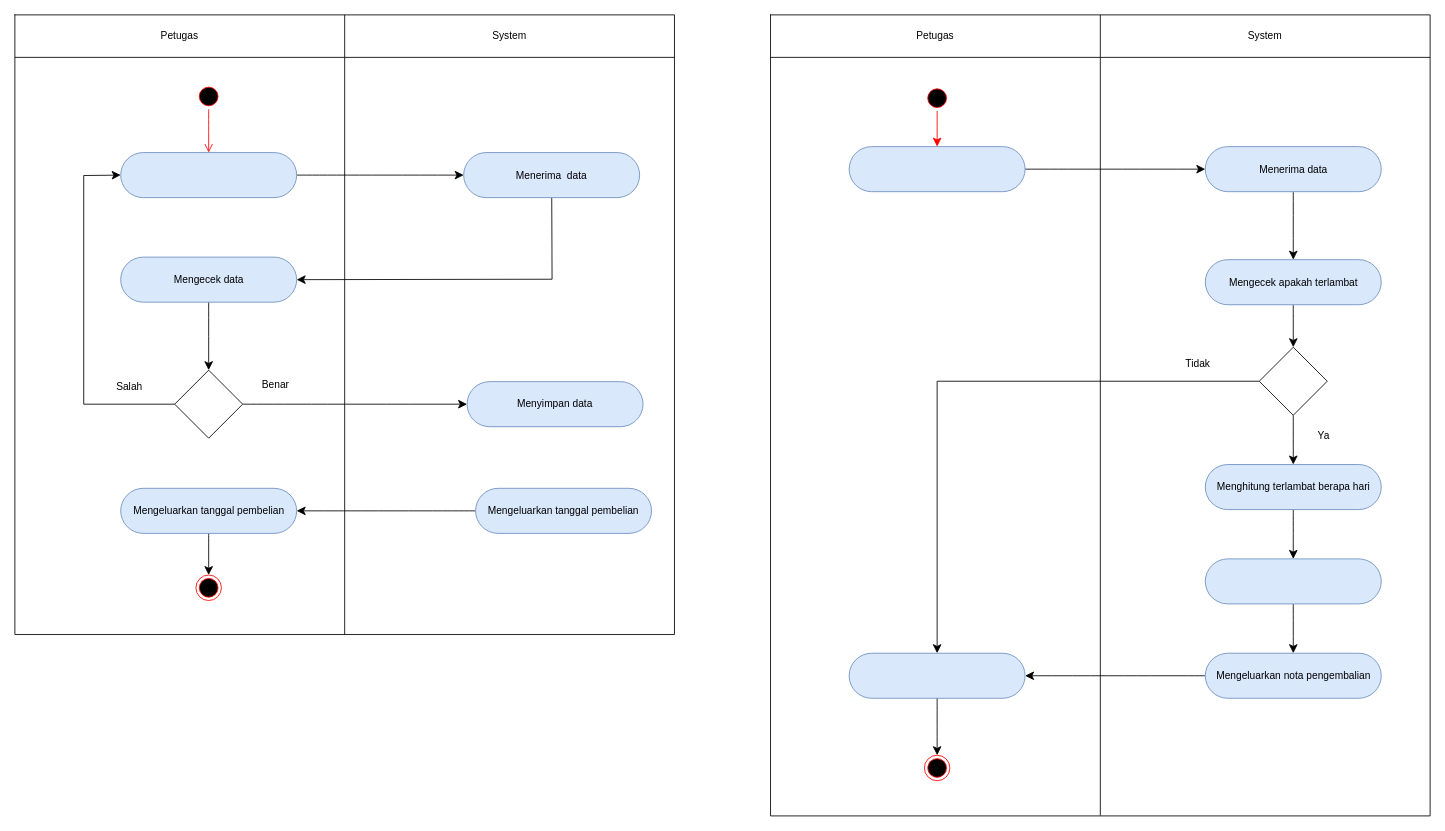
Image size: 1445x831. Some labels were removed from this diagram. The centre of each missing label's shape, as x and y in pixels:
Masukkan data buku, data anggota dan tanggal peminjaman: point (208, 175)
Masukkan tanggal pengembalian: point (936, 169)
Menerima nota pengembalian: point (936, 675)
Menghitung total denda: point (1292, 581)
